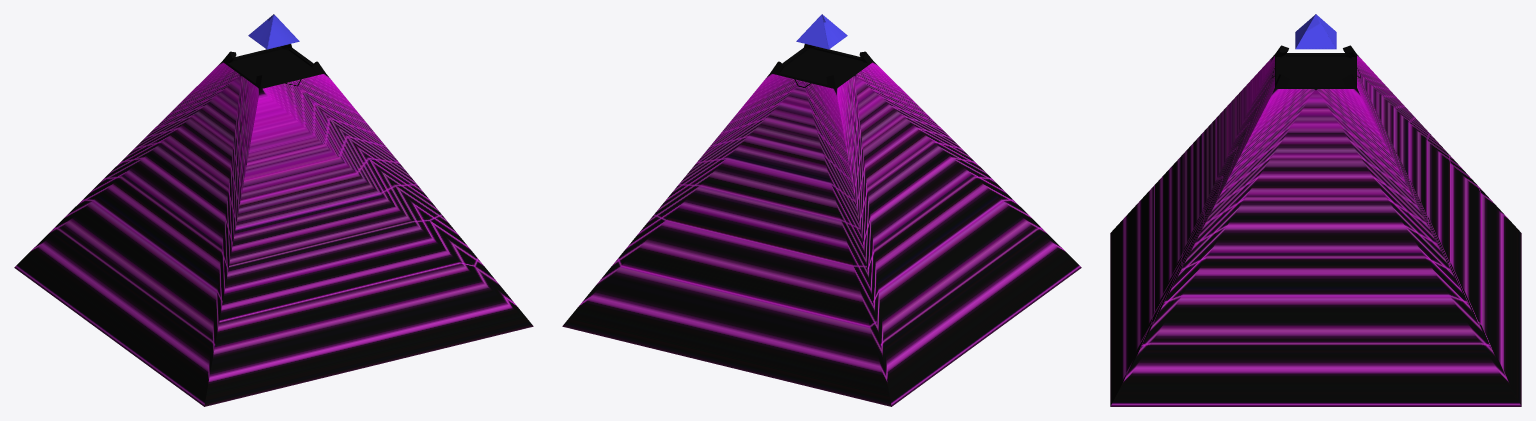
Rendered from piramide.obj.
The picture shows the model from 3 angles, left to right: view 1: azimuth 30°, elevation 25°; view 2: azimuth 150°, elevation 25°; view 3: azimuth 270°, elevation 25°; orthographic projection. The views are drawn at different scales.
Visible parts, largest first — view 1: Plane, Cube_Cube.001; view 2: Plane, Cube_Cube.001; view 3: Plane, Cube_Cube.001.
Boxes of the visible parts, box(x1,y1,x2,y2) form: Plane: box(14, 44, 533, 406); Cube_Cube.001: box(248, 14, 299, 49); Plane: box(562, 44, 1081, 406); Cube_Cube.001: box(796, 14, 847, 49); Plane: box(1110, 45, 1521, 406); Cube_Cube.001: box(1295, 14, 1336, 49).
Bounding box in the file's own units: 150 × 123 × 150.
Materials: 2 (2 with a texture image).
